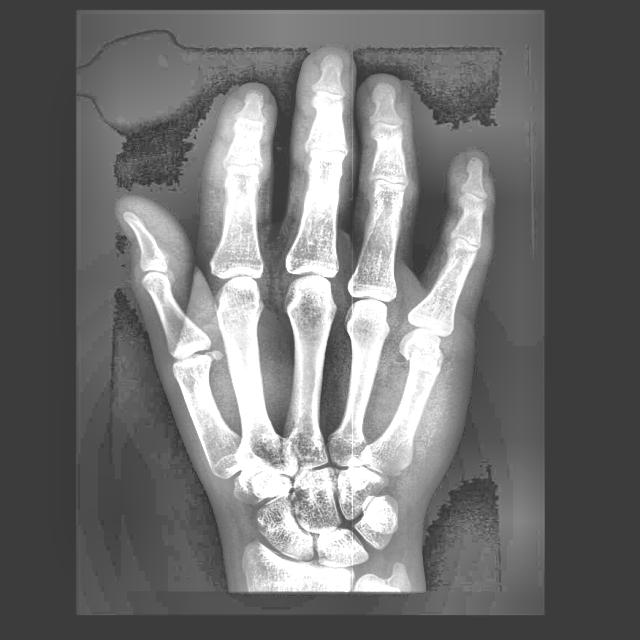fracture: (404, 349, 441, 367)
